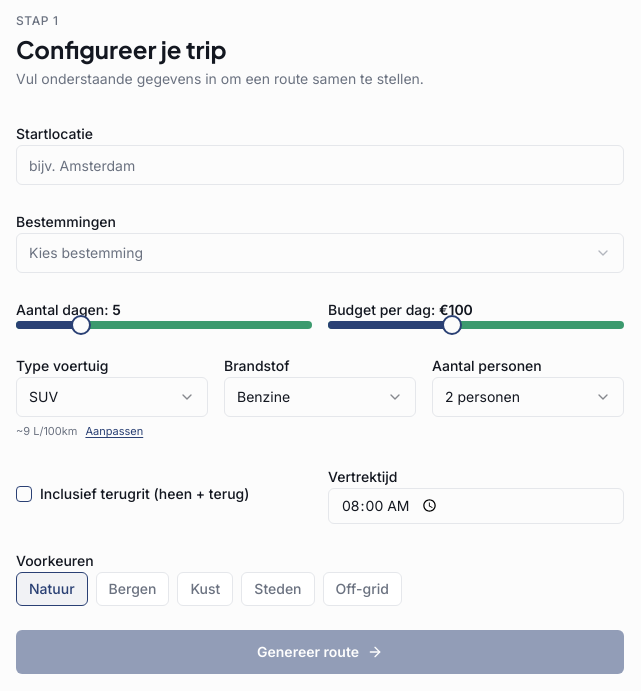
Test: TripWizard › toggles preference selection
Click the text "Kust": coordinates (205, 588) [178,572,233,606]
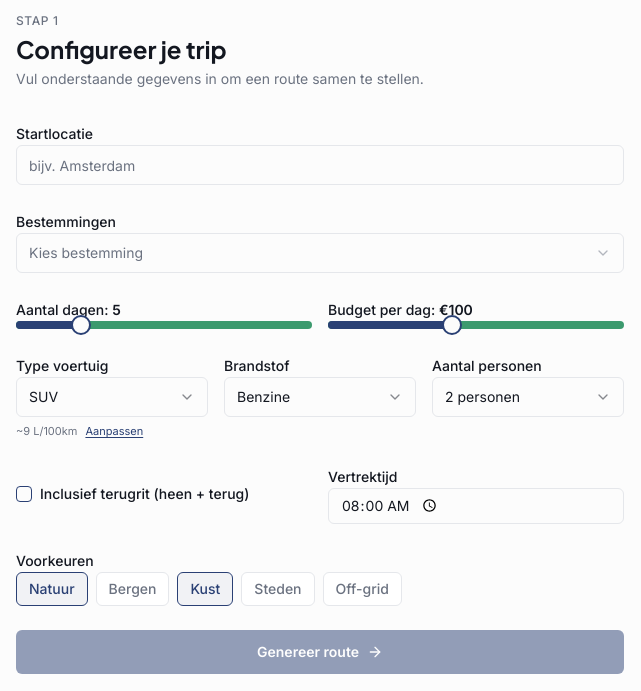
Result: the text "Kust" has class "border-primary" at [178,572,233,606]
